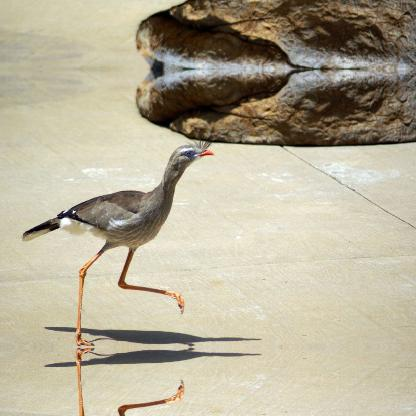Bird: (21, 138, 222, 318), (20, 373, 222, 415)
